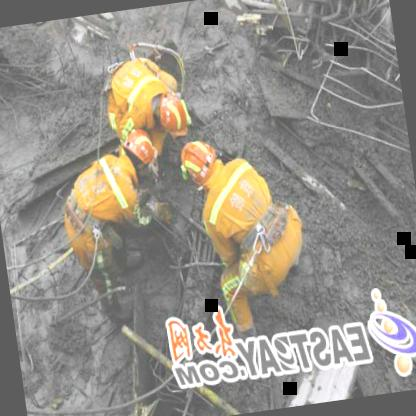helmet: (175, 136, 222, 189), (155, 90, 193, 138), (124, 127, 160, 170)
